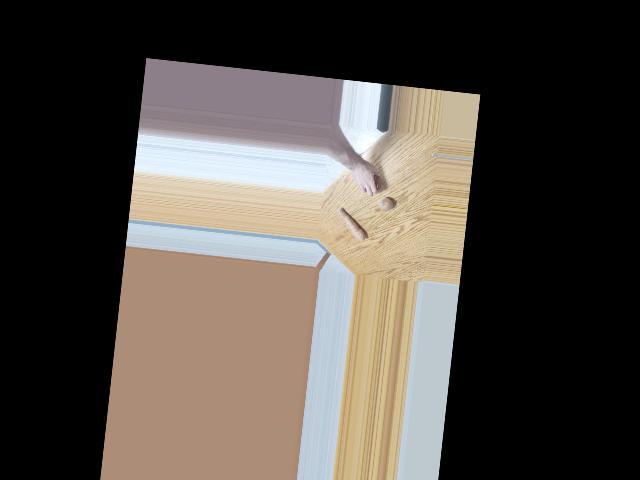onion: (368, 176, 383, 192)
